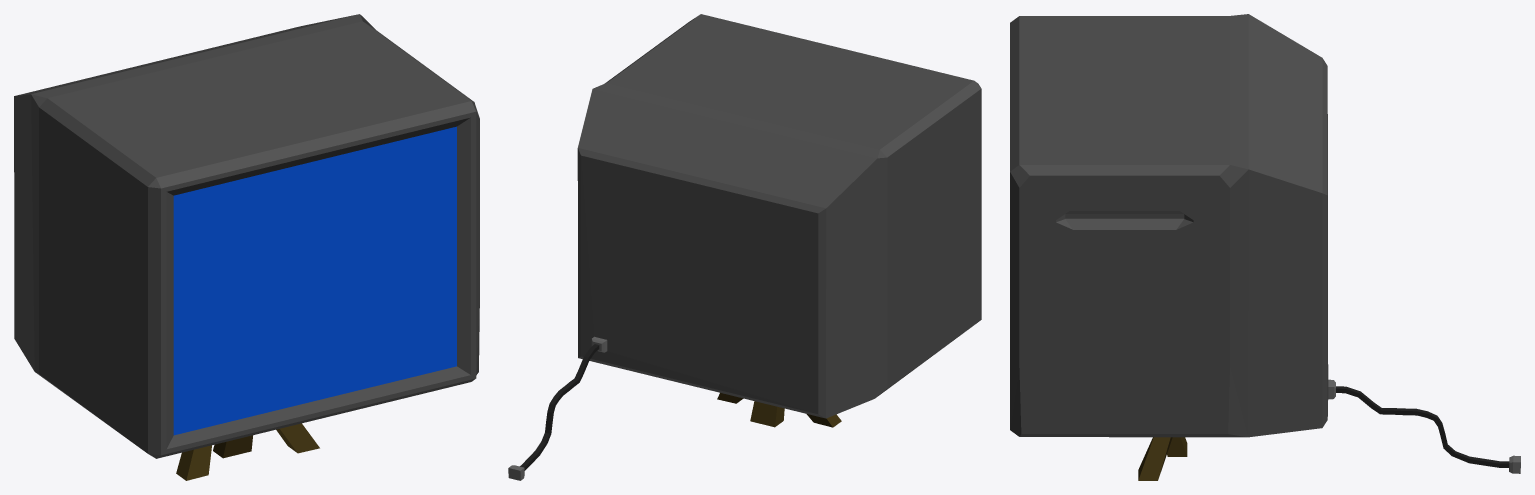
Rendered from Computer2.fbx.
3 renders of one model, left to right at view 1: azimuth 30°, elevation 25°; view 2: azimuth 150°, elevation 25°; view 3: azimuth 270°, elevation 25°, orthographic. The views are drawn at different scales.
Visible parts, largest first — view 1: Cube, Cube.001, Cube.002; view 2: Cube, Cube.002, Cube.005; view 3: Cube, Cube.005, Cube.002.
Part boxes in pixels (bbox=[...]): Cube: bbox=[14, 14, 479, 458]; Cube.001: bbox=[173, 126, 456, 435]; Cube.002: bbox=[176, 423, 319, 480]; Cube: bbox=[577, 14, 981, 418]; Cube.002: bbox=[717, 393, 841, 427]; Cube.005: bbox=[520, 344, 599, 470]; Cube: bbox=[1010, 14, 1328, 437]; Cube.005: bbox=[1336, 386, 1509, 470]; Cube.002: bbox=[1138, 437, 1187, 480].
Size of the model in its own units: 200 by 214 by 275.
